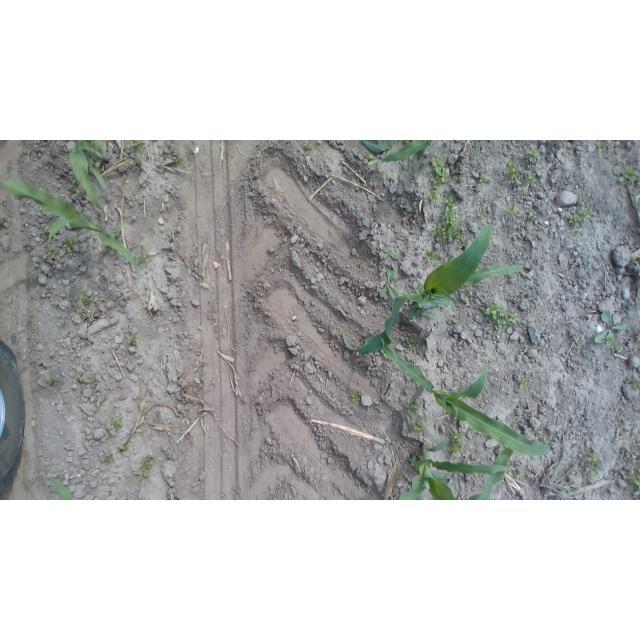Maize: (341, 220, 523, 353), (375, 334, 550, 462), (0, 176, 148, 277), (395, 436, 520, 500), (66, 140, 115, 218), (356, 140, 435, 160)
Weeds: (429, 196, 470, 249), (592, 309, 628, 347), (427, 154, 454, 202), (483, 302, 520, 331), (377, 268, 401, 305), (568, 203, 595, 227), (136, 454, 157, 481), (583, 451, 604, 476), (448, 429, 466, 458), (74, 289, 94, 315), (128, 245, 153, 265), (618, 165, 639, 186), (422, 250, 445, 267), (409, 308, 435, 323), (379, 245, 400, 263), (503, 161, 520, 182), (407, 416, 425, 434), (348, 388, 366, 406), (61, 238, 80, 255), (206, 313, 221, 334), (409, 455, 427, 472), (457, 286, 476, 302), (629, 472, 640, 497), (126, 140, 147, 153), (525, 148, 542, 164), (168, 149, 185, 165), (521, 170, 539, 185), (519, 376, 534, 394), (381, 344, 395, 363), (405, 399, 421, 415), (504, 204, 519, 221), (44, 246, 60, 261), (403, 337, 419, 352), (39, 225, 57, 238), (73, 370, 88, 385), (109, 415, 125, 429), (363, 153, 377, 168), (528, 209, 541, 225), (476, 172, 492, 185), (122, 333, 139, 345), (629, 374, 640, 392), (99, 452, 114, 464), (45, 375, 60, 387), (67, 181, 79, 196), (534, 428, 547, 441), (514, 469, 529, 480), (570, 333, 583, 345), (596, 142, 612, 151), (475, 205, 487, 217), (240, 306, 253, 317), (91, 375, 101, 389), (548, 140, 570, 146), (120, 444, 133, 454), (26, 312, 35, 324), (562, 484, 572, 494), (307, 171, 318, 180), (633, 330, 640, 343), (198, 164, 207, 173), (304, 143, 312, 152), (103, 429, 110, 438), (359, 263, 366, 270)
